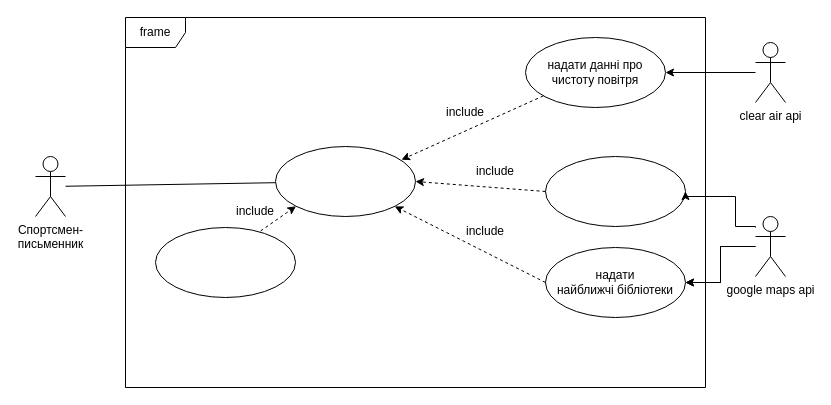
The diagram is 831 pixels wide and 405 high, and some of its shapes have lost their labels. The centre of each missing label's shape, as x and y in pixels:
"надати найближчі зали" goes at (615,191).
"надати своє росташування" goes at (345,181).
"надіслати online повідомлення" goes at (225,262).
